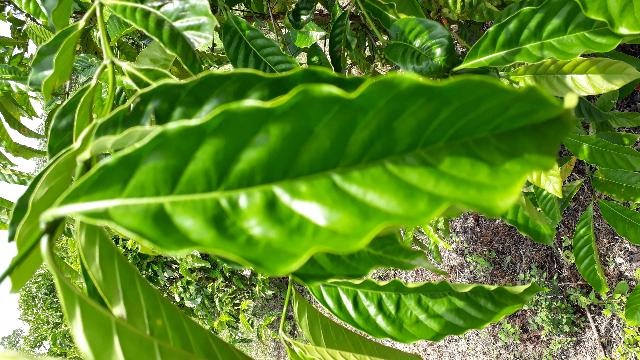healthy: (55, 68, 596, 276)
